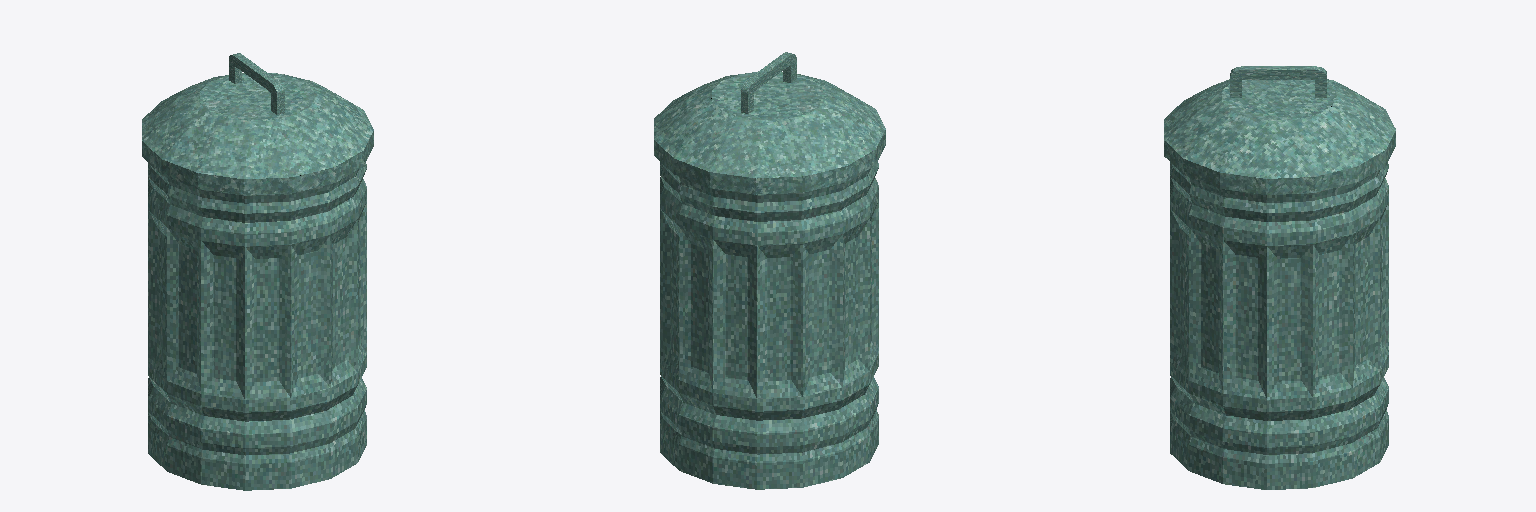
3 views of the same model, side by side, from view 1: azimuth 30°, elevation 25°; view 2: azimuth 150°, elevation 25°; view 3: azimuth 270°, elevation 25° (orthographic).
Parts seen in each view (by area): view 1: Trash_Can; view 2: Trash_Can; view 3: Trash_Can.
Boxes of the visible parts, x1=… form: Trash_Can: x1=142, y1=53, x2=373, y2=490; Trash_Can: x1=654, y1=52, x2=885, y2=489; Trash_Can: x1=1164, y1=66, x2=1395, y2=489.
Size of the model in its own units: 2.11 by 3.74 by 2.1.
3 materials, 3 textured.